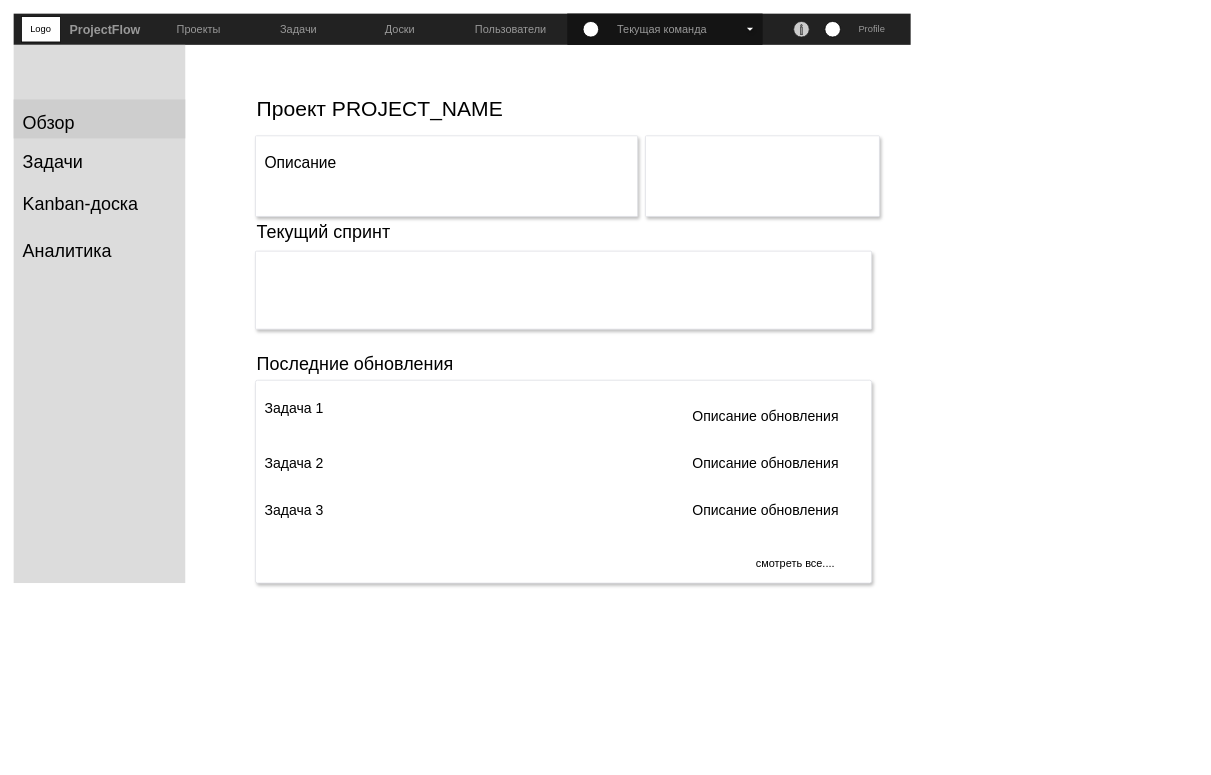
Image size: 1211x775. Some labels were removed from this diagram. The centre of each missing label's shape, as x and y in pixels:
"Команда" goes at point (763, 177).
"Описание прогресса" goes at point (564, 291).
